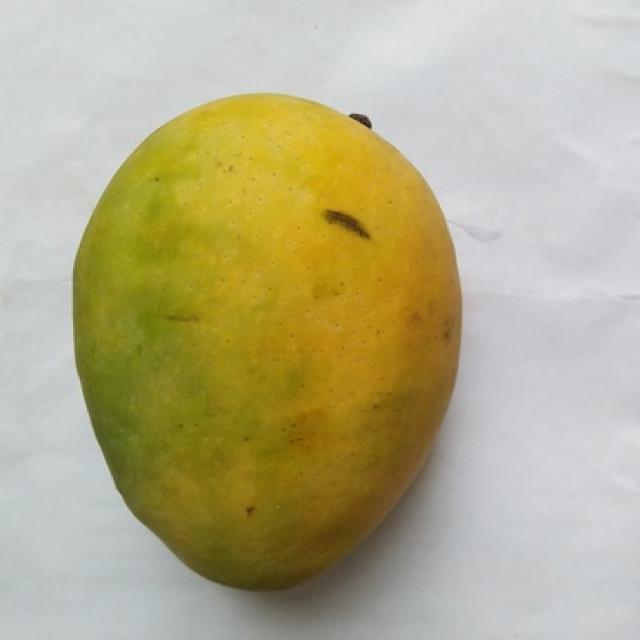Mango: (75, 94, 459, 590)
